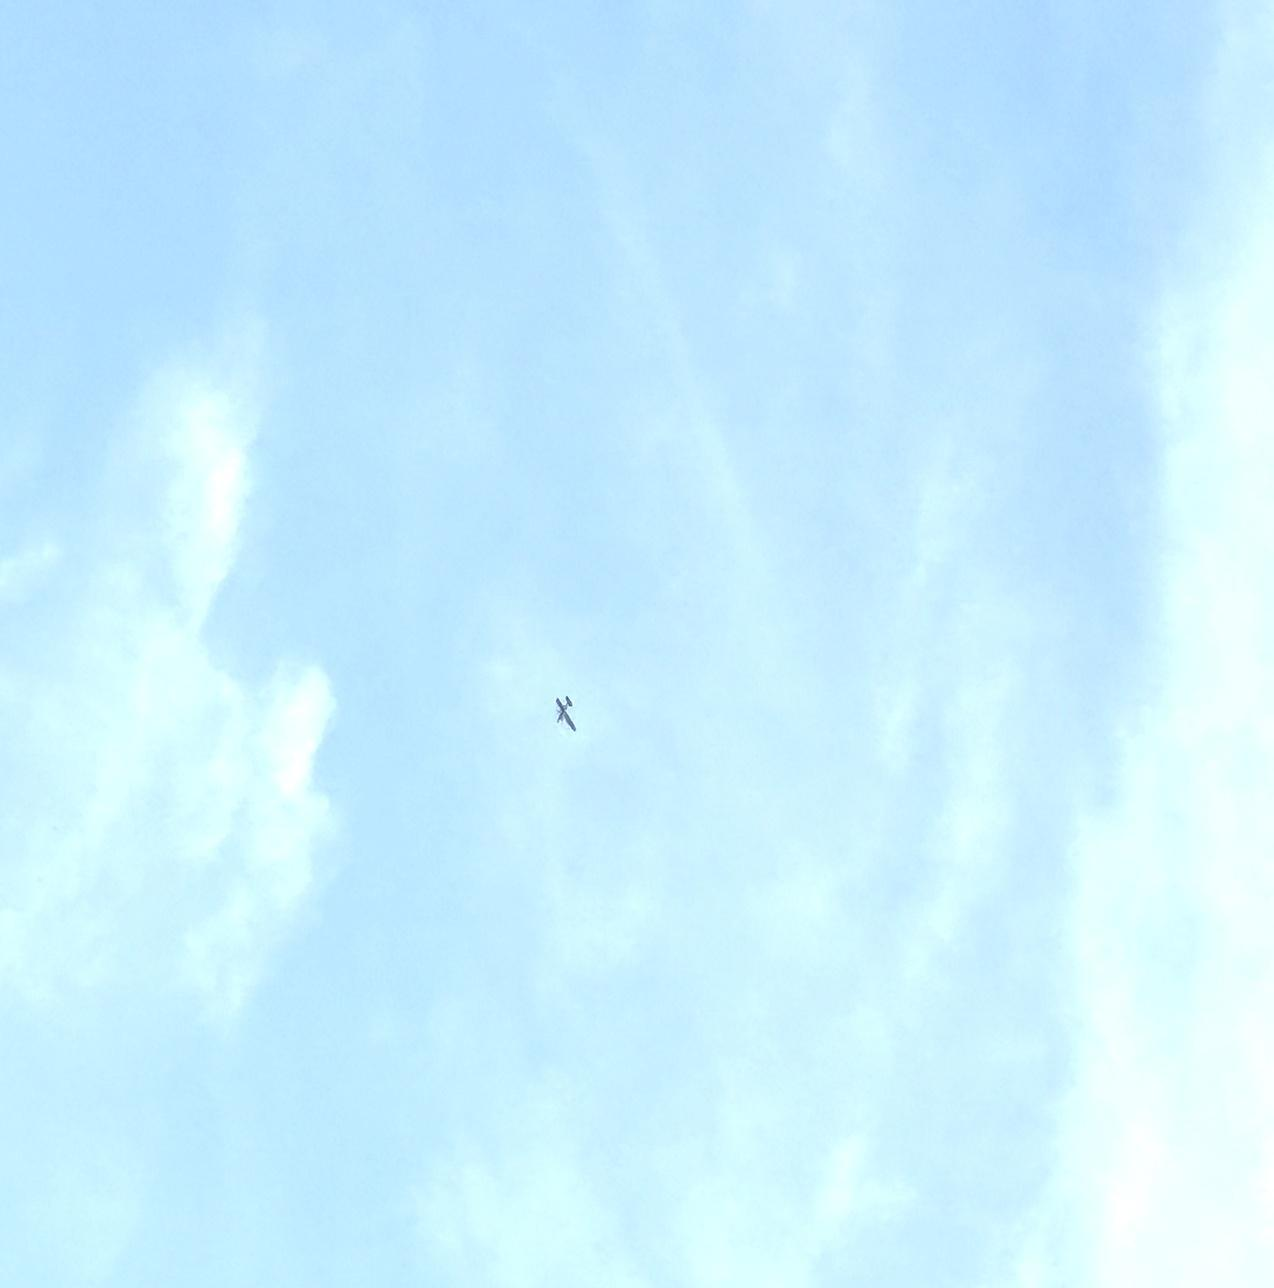Plane: (537, 678, 598, 750)
